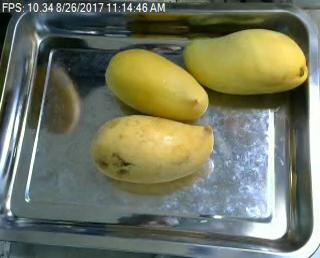Mango: (181, 27, 320, 96), (89, 115, 214, 185), (105, 46, 209, 120)
